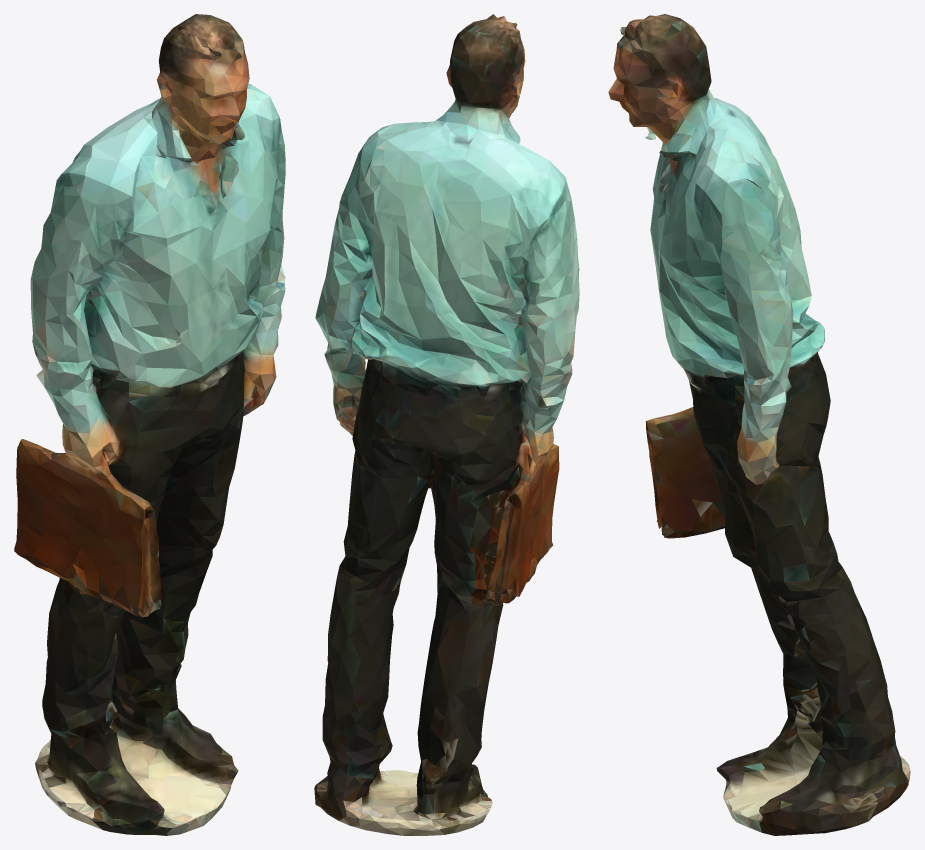
3 renders of one model, left to right at view 1: azimuth 30°, elevation 25°; view 2: azimuth 150°, elevation 25°; view 3: azimuth 270°, elevation 25°, orthographic. The views are drawn at different scales.
Visible parts, largest first — view 1: m.obj; view 2: m.obj; view 3: m.obj.
Part boxes in pixels (x1=…): m.obj: x1=14, y1=14, x2=285, y2=835; m.obj: x1=314, y1=14, x2=579, y2=835; m.obj: x1=608, y1=14, x2=910, y2=835.
Size of the model in its own units: 0.6204 by 1.89 by 0.6578.
Materials: 1 (1 with a texture image).
